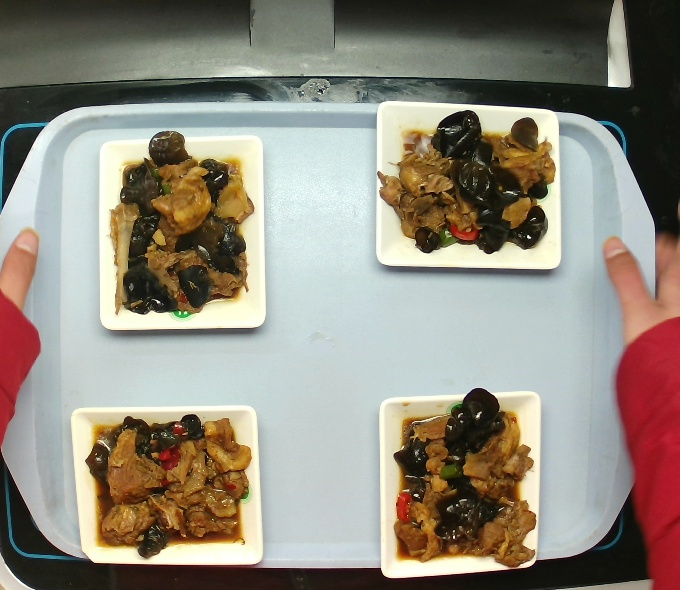wcq-MuErYaRou: (106, 135, 258, 315), (378, 107, 552, 262), (390, 391, 537, 564), (88, 409, 249, 564)
